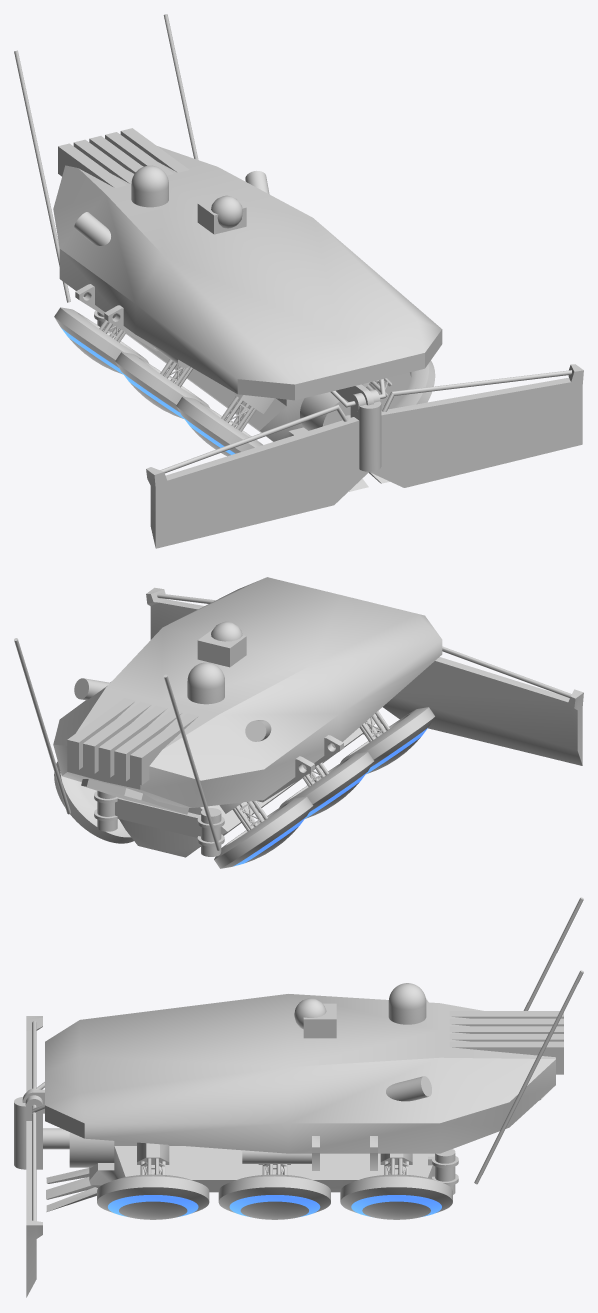
The model's file is Beehicle.fbx.
3 renders of one model, top to bottom at view 1: azimuth 30°, elevation 25°; view 2: azimuth 150°, elevation 25°; view 3: azimuth 270°, elevation 25°, orthographic.
Visible parts, largest first — view 1: cutter_2_1; view 2: cutter_2_1; view 3: cutter_2_1.
Boxes of the visible parts, x1,y1,x2,y2 form: cutter_2_1: (14, 14, 583, 548); cutter_2_1: (14, 577, 583, 868); cutter_2_1: (14, 897, 583, 1297).
Size of the model in its own units: 854 by 497 by 983.
